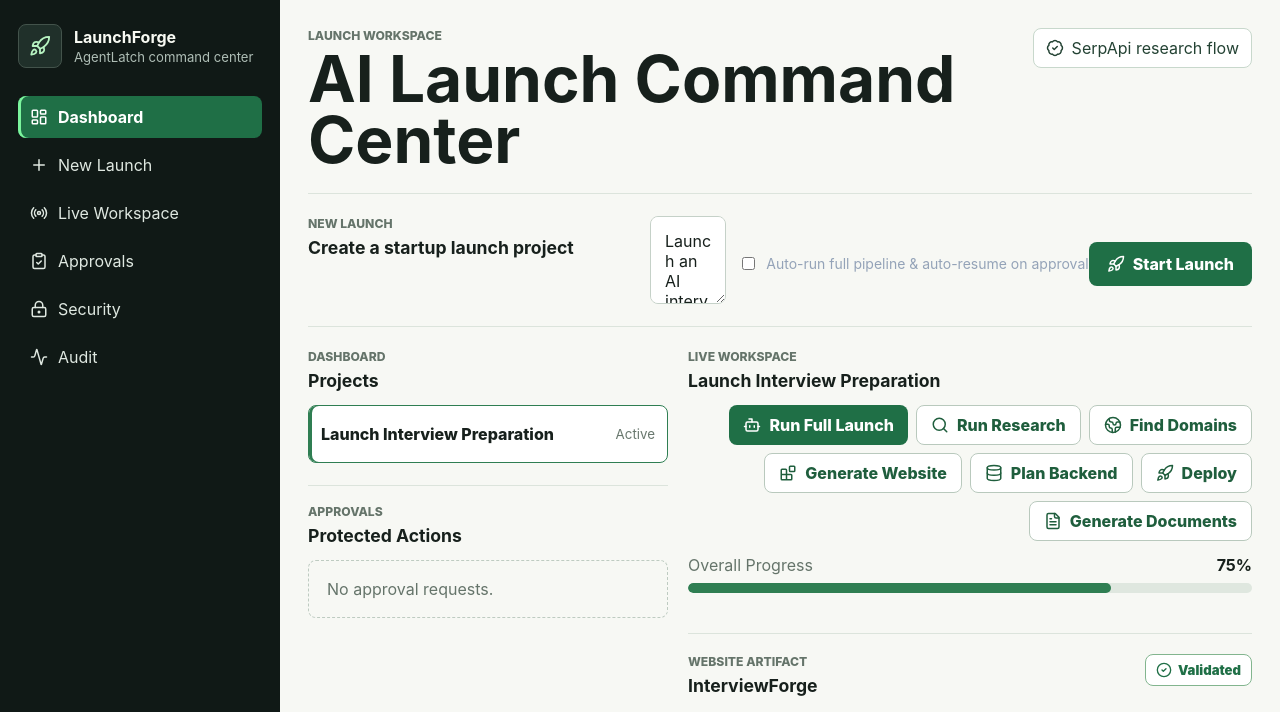
LaunchForge web foundation › deploys a generated website and renders health checks
The image size is (1280, 712).
Click the button "Deploy": (1196, 473) 1141,453 -> 1252,493
(page scrolled)
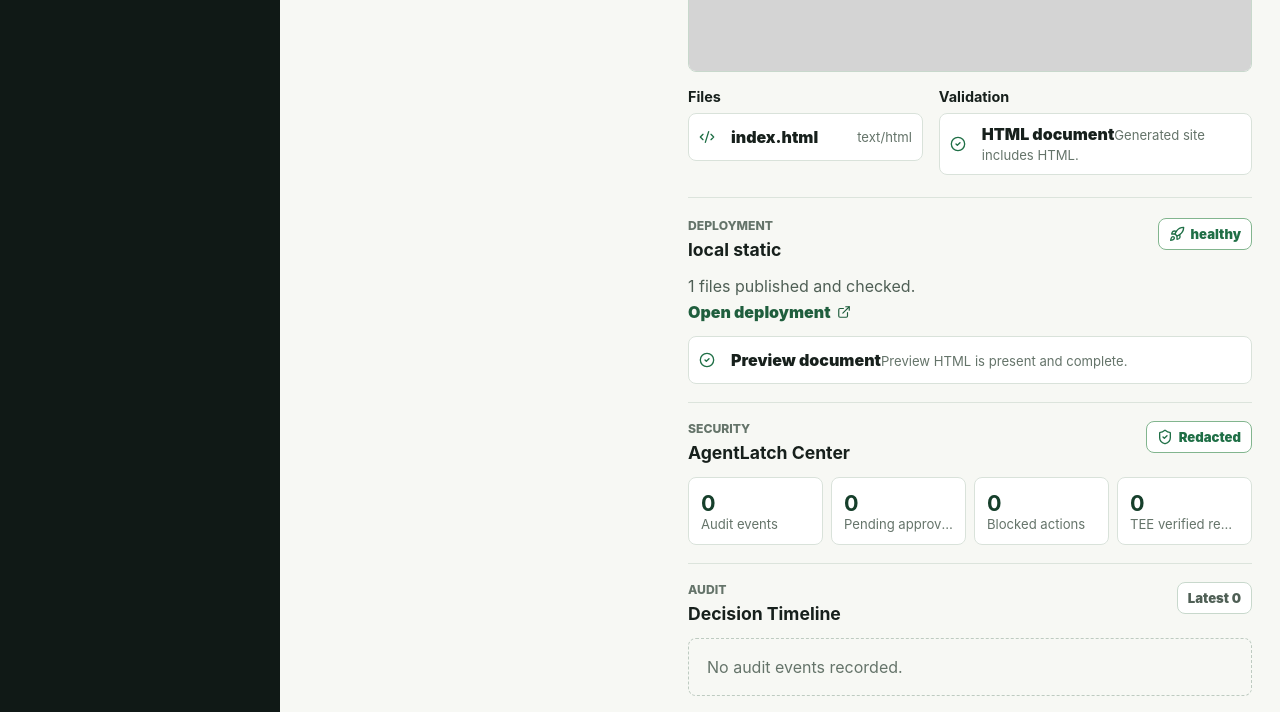
Now the heading "local static" is shown, box 688,239 -> 781,260
Now the text "Preview HTML is present and complete." is shown, box 881,353 -> 1127,369
